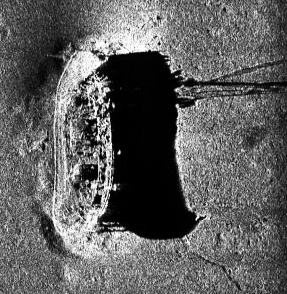ship: (46, 48, 113, 248)
